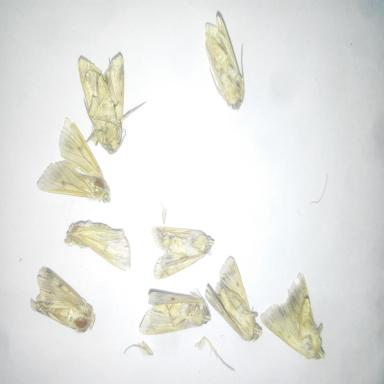abw: (74, 48, 150, 156), (33, 115, 114, 206), (258, 269, 328, 364), (202, 254, 264, 346), (28, 262, 98, 336), (201, 11, 247, 113), (64, 214, 134, 276), (147, 222, 216, 284), (138, 286, 212, 343)
